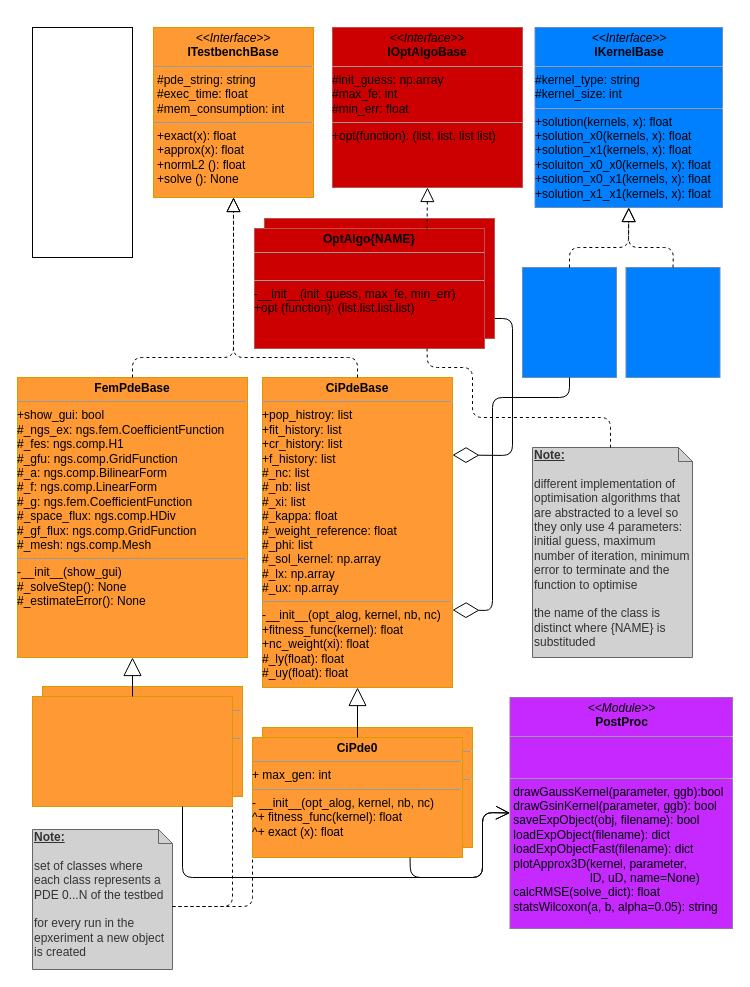
Image size: 750x987. Some labels were removed from this diagram. Each missing label, with the centre of its shape:
"FemPde0 +max_ndof: int -__init__(show_gui, max_ndof) ^+solve(): None" goes at [132,751].
"KernelGauss -__init__()" goes at [569,322].
"KernelGsin -__init__()" goes at [672,322].
"Legend opt_algo kernels testbed notes post_proc" goes at [82,142].
